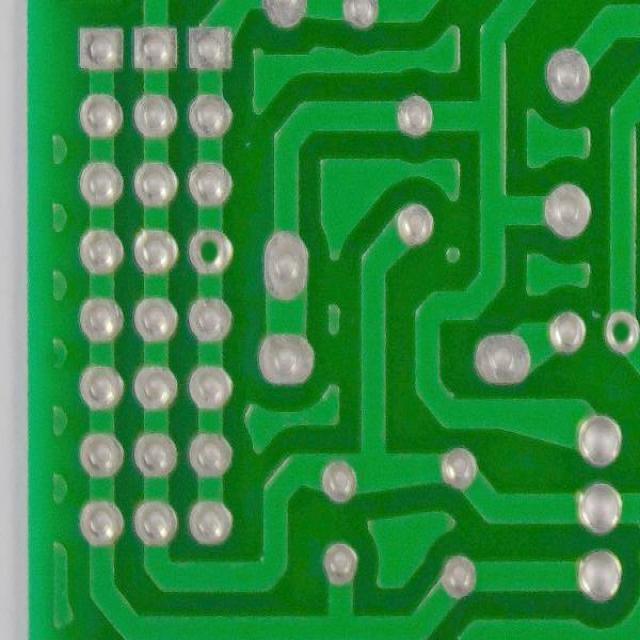missing hole: (181, 223, 239, 277), (600, 305, 639, 359)
